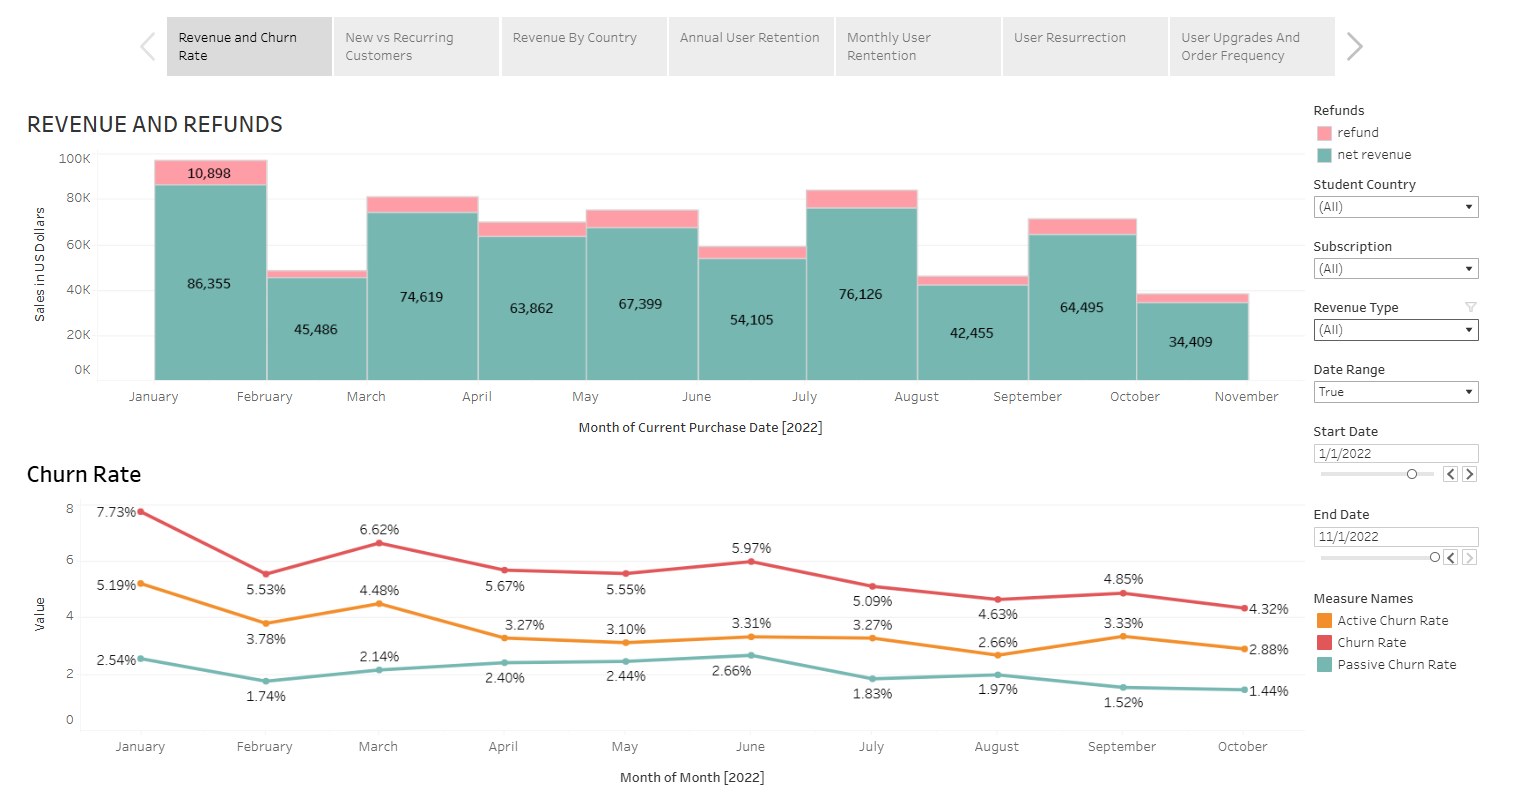

What the dashboard file says about the page in this screenshot:
{"tool":"tableau","page":{"name":"Revenue, Refunds & Churn Dashboard","canvas":[1350,651],"ordinal":3},"visuals":[{"type":"worksheet","title":"Revenue and Refunds","mark":"Bar","rows":["price"],"cols":["current_purchase_date"],"box":[8,8,1174,317.5]},{"type":"legend","title":"Revenue and Refunds","param":"[federated.103k3fl0dgmcf912g1tpi17h8gps].[none:refunds:nk]","box":[1182,8,160,66]},{"type":"filter","title":"Revenue and Refunds","param":"[federated.103k3fl0dgmcf912g1tpi17h8gps].[none:student_country:nk]","box":[1182,74,160,52]},{"type":"filter","title":"Revenue and Refunds","param":"[federated.103k3fl0dgmcf912g1tpi17h8gps].[none:subscription:nk]","box":[1182,126,160,52]},{"type":"filter","title":"Revenue and Refunds","param":"[federated.103k3fl0dgmcf912g1tpi17h8gps].[none:revenue_type:nk]","box":[1182,178,160,52]},{"type":"filter","title":"Revenue and Refunds","param":"[federated.103k3fl0dgmcf912g1tpi17h8gps].[none:Calculation_1380916249827299333:n","box":[1182,230,160,52]},{"type":"parameter","param":"[Parameters].[Parameter 1]","box":[1182,282,160,75]},{"type":"worksheet","title":"Churn Rate","mark":"Line","cols":["month"],"box":[8,325.5,1174,317.5]},{"type":"parameter","param":"[Parameters].[Parameter 2]","box":[1182,357,160,75]},{"type":"legend","title":"Churn Rate","param":"[federated.0wftn8602798t61dto9wd1bxinla].[:Measure Names]","box":[1182,432,160,86]}]}

Visuals, with their boxes on the page's 1350x651 design canvas (x1, y1, x2, y2). These are canvas units, not pixel positions in the 1517x808 screenshot, which may show the page scaled, cropped or inside an application window:
"Revenue and Refunds" worksheet (Bar marks): crop(8, 8, 1182, 326)
"Revenue and Refunds" legend: crop(1182, 8, 1342, 74)
"Revenue and Refunds" filter: crop(1182, 74, 1342, 126)
"Revenue and Refunds" filter: crop(1182, 126, 1342, 178)
"Revenue and Refunds" filter: crop(1182, 178, 1342, 230)
"Revenue and Refunds" filter: crop(1182, 230, 1342, 282)
parameter: crop(1182, 282, 1342, 357)
"Churn Rate" worksheet (Line marks): crop(8, 326, 1182, 643)
parameter: crop(1182, 357, 1342, 432)
"Churn Rate" legend: crop(1182, 432, 1342, 518)
